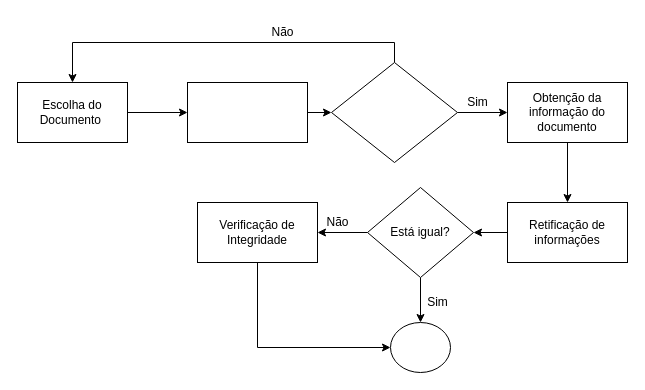
This 645x390 diagram has some shape labels left out. The centre of each missing label's shape, as x and y in pixels:
Está na base de dados?: point 394,112
Fim: point 420,347
Leitura código de barras: point 247,112
